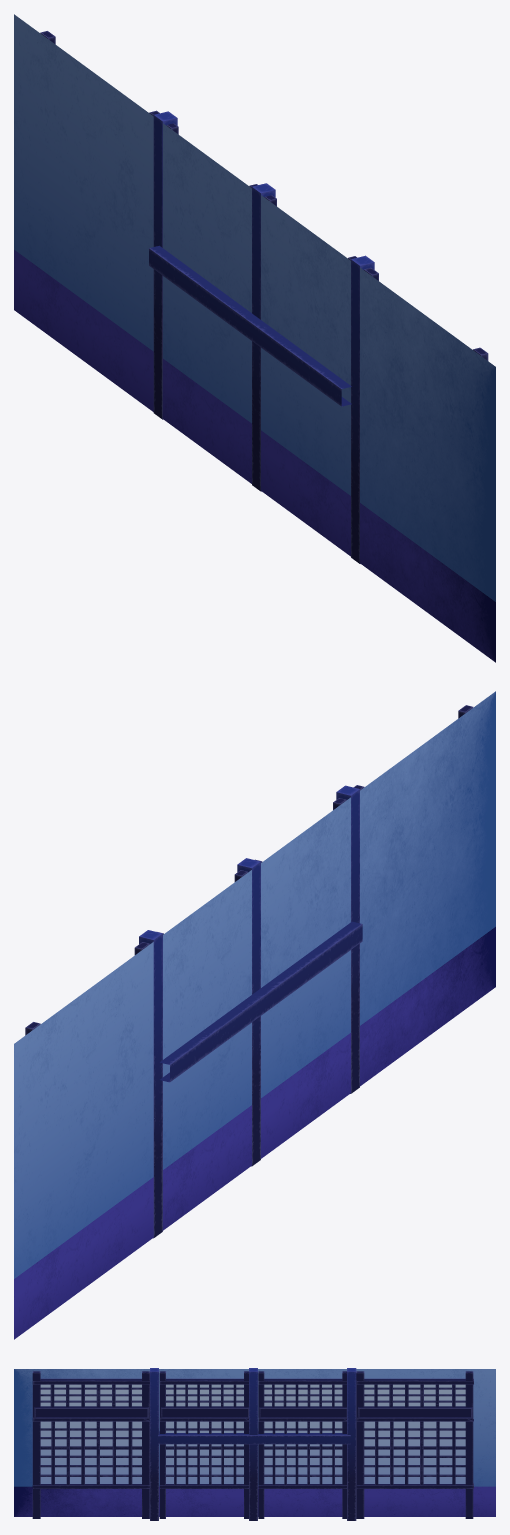
File: SM_Wall2_V2.fbx
The picture shows the model from 3 angles, top to bottom: view 1: azimuth 30°, elevation 25°; view 2: azimuth 150°, elevation 25°; view 3: azimuth 270°, elevation 25°; orthographic projection. The views are drawn at different scales.
Visible parts, largest first — view 1: SM_WallBase, SM_WallDoorBG, SM_HorizontalWoodenBeam1, SM_VerticalWoodenBeam2, SM_VerticalWoodenBeam1, SM_VerticalWoodenBeamCenter; view 2: SM_WallBase, SM_WallDoorBG, SM_HorizontalWoodenBeam1, SM_VerticalWoodenBeam2, SM_VerticalWoodenBeam1, SM_VerticalWoodenBeamCenter; view 3: SM_WallBase, SM_MovingWalls3, SM_MovingWalls, SM_MovingWalls1, SM_MovingWalls2, SM_WallDoorBG, SM_HorizontalWoodenBeam1, SM_VerticalWoodenBeam2, SM_VerticalWoodenBeam1, SM_VerticalWoodenBeamCenter.
Boxes of the visible parts, x1,y1,x2,y2 form: SM_WallBase: [14, 14, 495, 662]; SM_WallDoorBG: [163, 276, 350, 556]; SM_HorizontalWoodenBeam1: [149, 245, 351, 406]; SM_VerticalWoodenBeam2: [153, 111, 177, 419]; SM_VerticalWoodenBeam1: [351, 255, 374, 563]; SM_VerticalWoodenBeamCenter: [252, 183, 275, 491]; SM_WallBase: [14, 691, 495, 1339]; SM_WallDoorBG: [163, 950, 350, 1230]; SM_HorizontalWoodenBeam1: [160, 921, 362, 1082]; SM_VerticalWoodenBeam2: [139, 930, 162, 1238]; SM_VerticalWoodenBeam1: [336, 785, 359, 1093]; SM_VerticalWoodenBeamCenter: [237, 858, 260, 1166]; SM_WallBase: [14, 1369, 495, 1516]; SM_MovingWalls3: [356, 1371, 473, 1518]; SM_MovingWalls: [32, 1371, 149, 1518]; SM_MovingWalls1: [159, 1371, 248, 1518]; SM_MovingWalls2: [258, 1371, 346, 1518]; SM_WallDoorBG: [159, 1444, 342, 1516]; SM_HorizontalWoodenBeam1: [158, 1431, 350, 1444]; SM_VerticalWoodenBeam2: [347, 1368, 356, 1520]; SM_VerticalWoodenBeam1: [150, 1368, 158, 1520]; SM_VerticalWoodenBeamCenter: [249, 1368, 257, 1520].
Size of the model in its own units: 67.71 by 712 by 2086.
